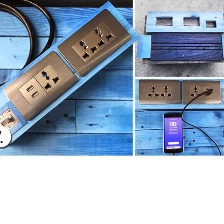phone: (161, 111, 185, 154)
three_eye_plug: (0, 49, 80, 122), (54, 6, 133, 79), (136, 78, 182, 105), (180, 77, 223, 105)
